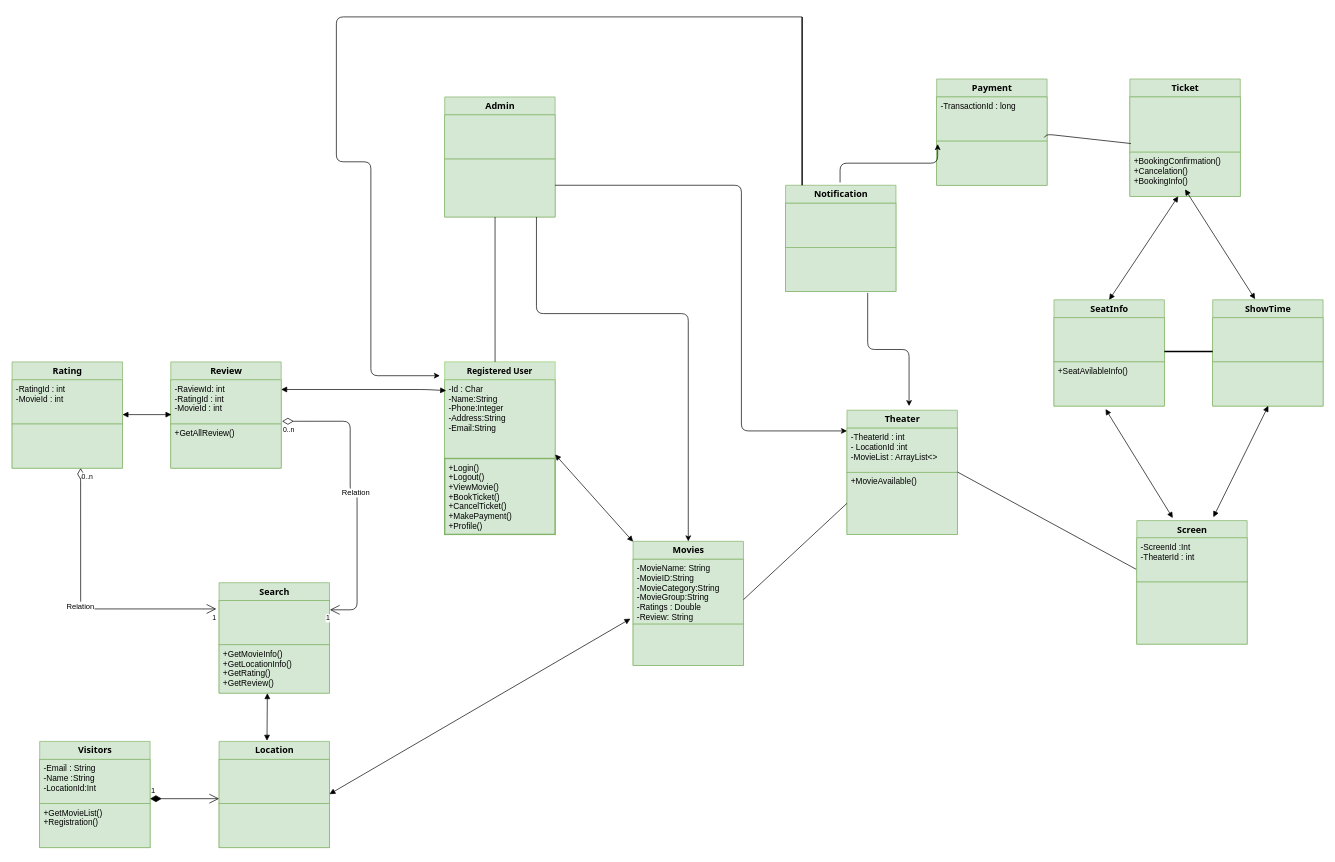
This 1335x862 diagram has some shape labels left out. Here are the shapes that lost their labels. From the top down, the centre of each, then its label:
At [499,136]: "-UserName :String -PassWord : String".
At [1184,124]: "-BookingId :int -NumberOfSeat:int -MovieId : int -Venue : String -TheaterId :int".
At [991,162]: "+PaymentConfirmation()".
At [499,187]: "+EditMovie() +DeleteMovie() +UpdateShowTime()".
At [840,225]: "-NotificationId :int".
At [840,269]: "+SendNotification()".
At [1108,339]: "-SeatId :int -ShowId :int -RowId :int -SeatInfo: array[]".
At [1267,339]: "-ShowId :int -ScreenId : int".
At [1267,383]: "+ScreenInfo() +MovieInfo()".
At [66,445]: "+GetAllRating()".
At [273,622]: "-movieId:int -locationId:int -".
At [1191,612]: "+MovieUpdate()".
At [687,644]: "+UpdateDeatils() +Reviews() +Ratings()".
At [273,781]: "-Location ID:Int".
At [273,825]: "+GetLocationInfo()".
